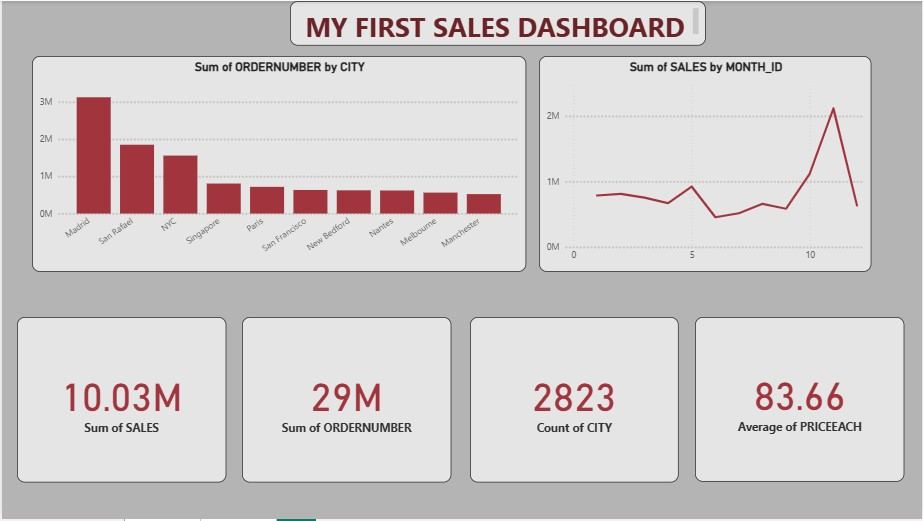

The dashboard page shown, as its layout file describes it:
{"tool":"powerbi","page":{"name":"Page 1","canvas":[1280,720],"ordinal":0},"visuals":[{"type":"textbox","box":[400,0,578.3,61.7],"z":0},{"type":"clusteredColumnChart","fields":{"Category":["sales_data_sample.CITY"],"Y":["Sum(sales_data_sample.ORDERNUMBER)"]},"box":[41.7,76.7,686.7,300],"z":1000},{"type":"card","fields":{"Values":["Sum(sales_data_sample.SALES)"]},"box":[21.3,439.4,290.6,229.6],"z":2000},{"type":"card","fields":{"Values":["Sum(sales_data_sample.ORDERNUMBER)"]},"box":[333.1,439.4,290.6,229.6],"z":3000},{"type":"card","fields":{"Values":["Avg(sales_data_sample.PRICEEACH)"]},"box":[963.7,439.5,291,228.7],"z":4000},{"type":"card","fields":{"Values":["CountNonNull(sales_data_sample.CITY)"]},"box":[650.4,439.5,289.6,230.2],"z":5000},{"type":"lineChart","fields":{"Y":["Sum(sales_data_sample.SALES)"],"Category":["sales_data_sample.MONTH_ID"]},"box":[746.9,76.5,462,300.5],"z":6000}]}

Visuals, with their boxes in screenshot pixels (x1, y1, x2, y2), scaled from the page's 1280x720 canvas onto the 923x521 screenshot:
textbox: detection(288, 0, 705, 45)
clusteredColumnChart - sales_data_sample.CITY x Sum(sales_data_sample.ORDERNUMBER): detection(30, 56, 525, 273)
card - Sum(sales_data_sample.SALES): detection(15, 318, 225, 484)
card - Sum(sales_data_sample.ORDERNUMBER): detection(240, 318, 450, 484)
card - Avg(sales_data_sample.PRICEEACH): detection(695, 318, 905, 484)
card - CountNonNull(sales_data_sample.CITY): detection(469, 318, 678, 485)
lineChart - Sum(sales_data_sample.SALES) x sales_data_sample.MONTH_ID: detection(539, 55, 872, 273)
